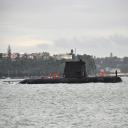submarine: (3, 62, 124, 86)
